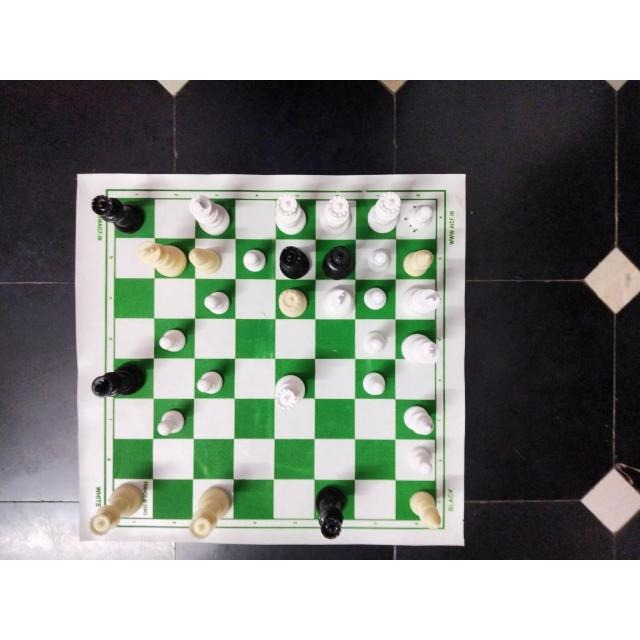black-king: (90, 360, 146, 399)
black-queen: (87, 195, 146, 231), (313, 486, 347, 538), (277, 245, 311, 278), (321, 245, 353, 277)
white-bishop: (408, 489, 443, 529), (400, 404, 436, 436), (402, 248, 434, 278), (189, 246, 221, 274)
white-king: (136, 240, 188, 278), (188, 195, 232, 235), (400, 285, 442, 319), (400, 331, 442, 365), (322, 286, 354, 318)
white-pawn: (155, 406, 188, 437), (359, 368, 389, 398), (406, 445, 434, 477), (240, 246, 270, 274), (158, 327, 188, 355), (195, 368, 224, 395), (367, 246, 393, 274), (407, 205, 435, 231), (201, 289, 231, 313), (361, 330, 389, 355), (363, 286, 388, 310)
white-queen: (87, 482, 144, 535), (186, 486, 234, 540), (365, 192, 401, 234), (273, 193, 308, 235), (318, 195, 352, 237), (273, 373, 307, 411), (276, 287, 309, 319)
